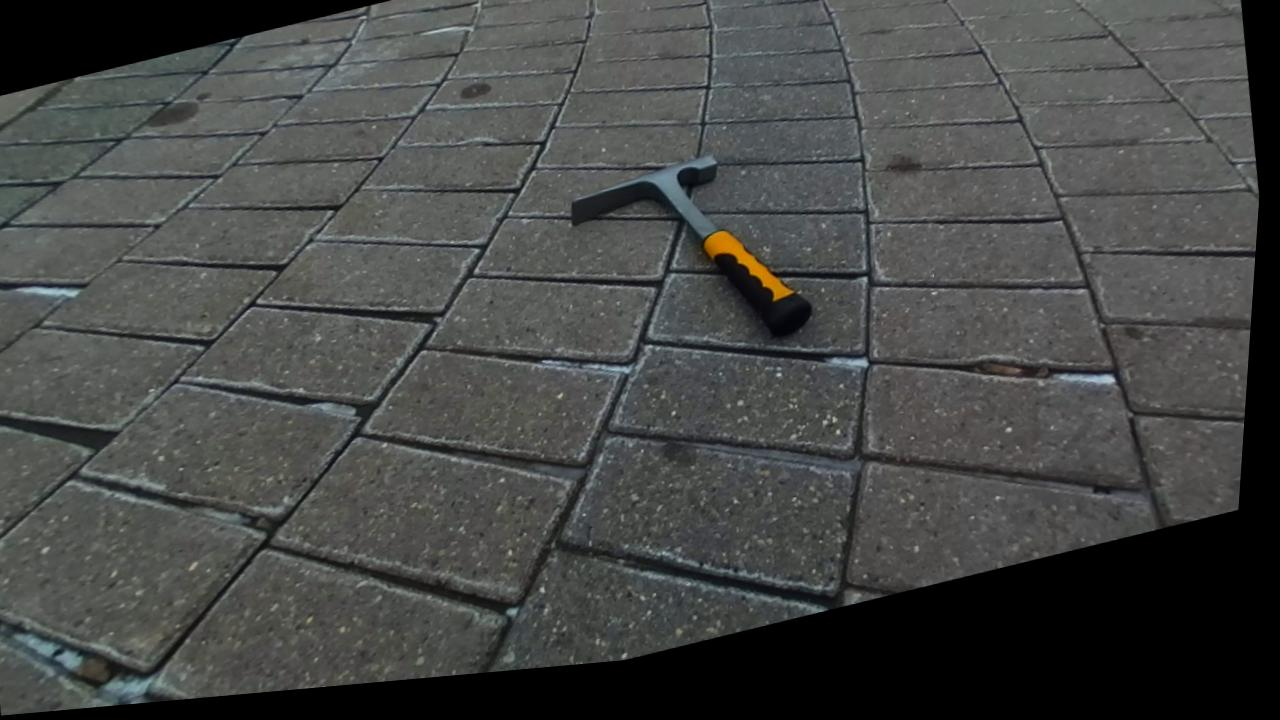pick: (571, 155, 811, 335)
